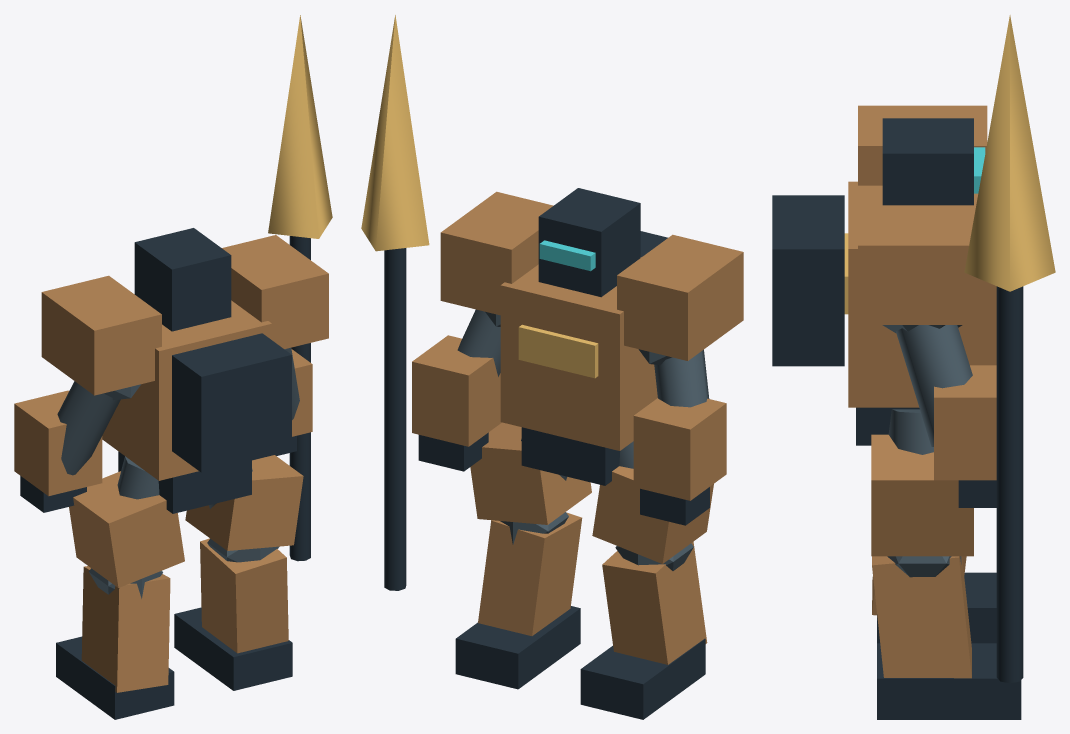
The model's file is frame-nelson.glb.
3 views of the same model, side by side, from view 1: azimuth 30°, elevation 25°; view 2: azimuth 150°, elevation 25°; view 3: azimuth 270°, elevation 25° (orthographic). The views are drawn at different scales.
Visible parts, largest first — view 1: frame-nelson; view 2: frame-nelson; view 3: frame-nelson.
Boxes of the visible parts, x1,y1,x2,y2 form: frame-nelson: [14, 15, 332, 719]; frame-nelson: [361, 15, 743, 719]; frame-nelson: [772, 15, 1055, 719].
Bounding box in the file's own units: 1.17 × 2.15 × 0.745.
